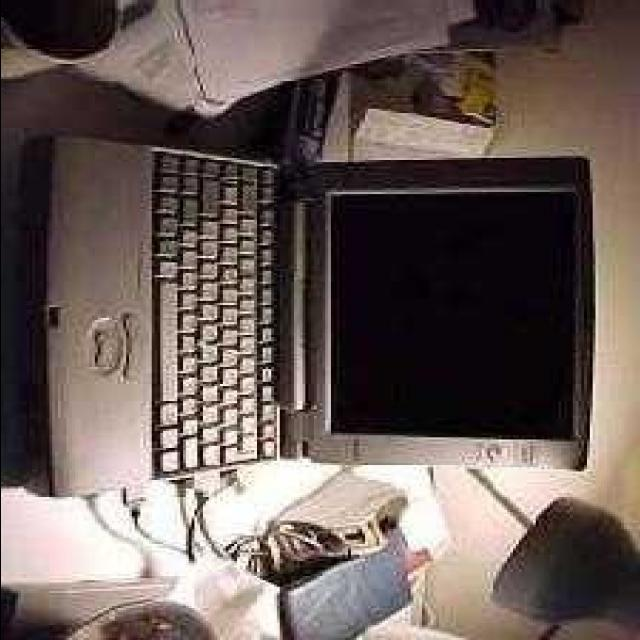laptop: (39, 134, 586, 474)
